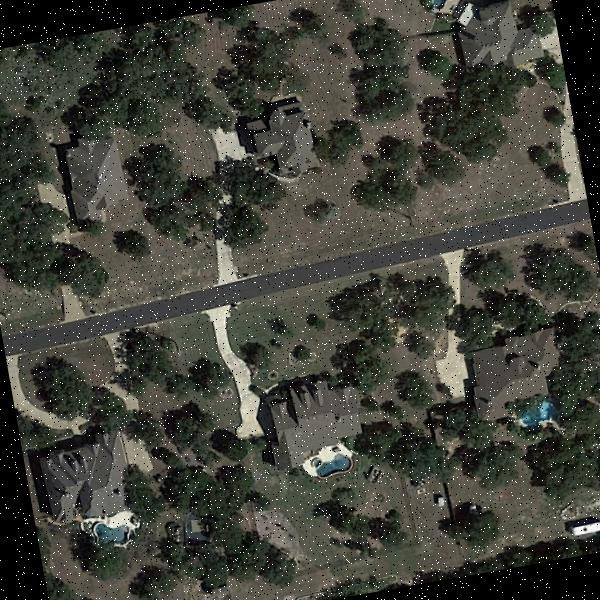Buildings: (38, 440, 130, 519), (276, 385, 366, 451), (458, 0, 541, 68), (246, 108, 322, 176), (476, 342, 554, 404), (66, 142, 126, 214)
